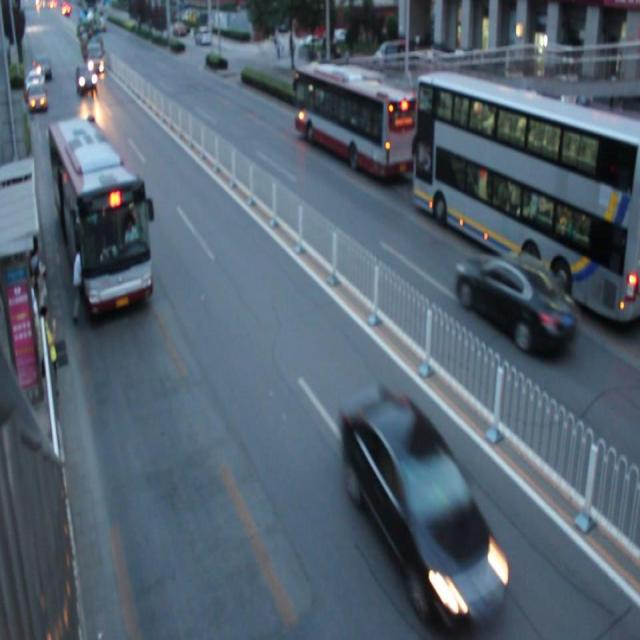car: (340, 386, 510, 616), (455, 255, 576, 359), (27, 81, 50, 112)
van: (416, 74, 640, 318), (47, 120, 154, 316), (295, 69, 413, 178)
